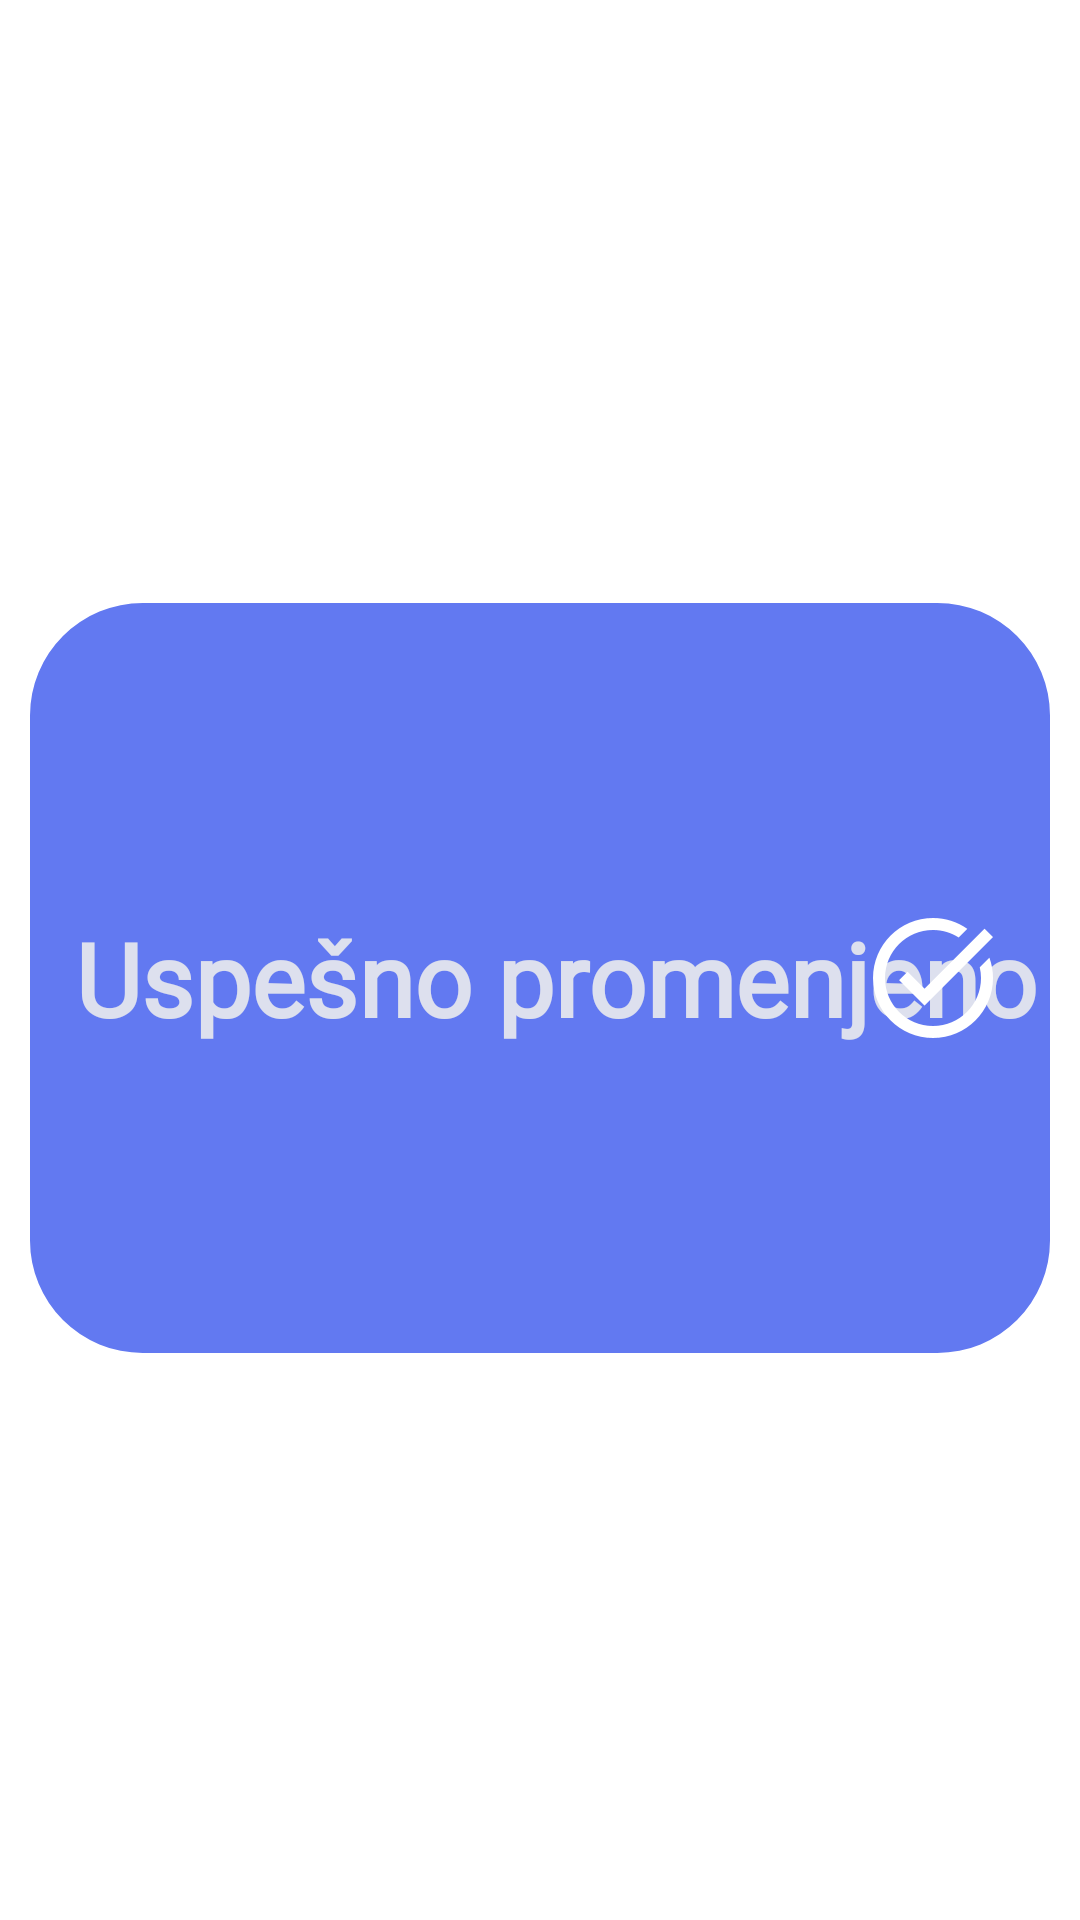

Locate icon controls on the screen. Image size 1080*1920, boxes as box(x1, y1, x2, y2).
task: box(861, 918, 1005, 1038)
